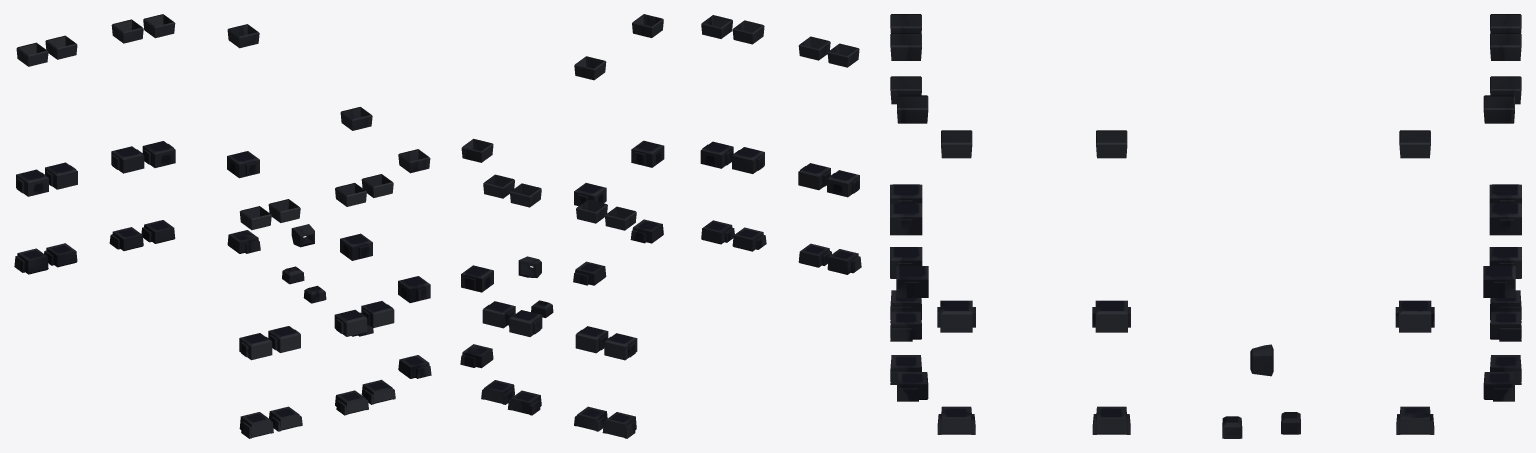
File: Wall_03.FBX
3 views of the same model, side by side, from view 1: azimuth 30°, elevation 25°; view 2: azimuth 150°, elevation 25°; view 3: azimuth 270°, elevation 25° (orthographic). The views are drawn at different scales.
Parts seen in each view (by area): view 1: Wall_03; view 2: Wall_03; view 3: Wall_03.
Part boxes in pixels (left/top/right/bottom): Wall_03: left=14, top=14, right=431, bottom=438; Wall_03: left=460, top=14, right=861, bottom=438; Wall_03: left=890, top=14, right=1521, bottom=438.
Bounding box in the file's own units: 12.73 × 13.3 × 25.69.
